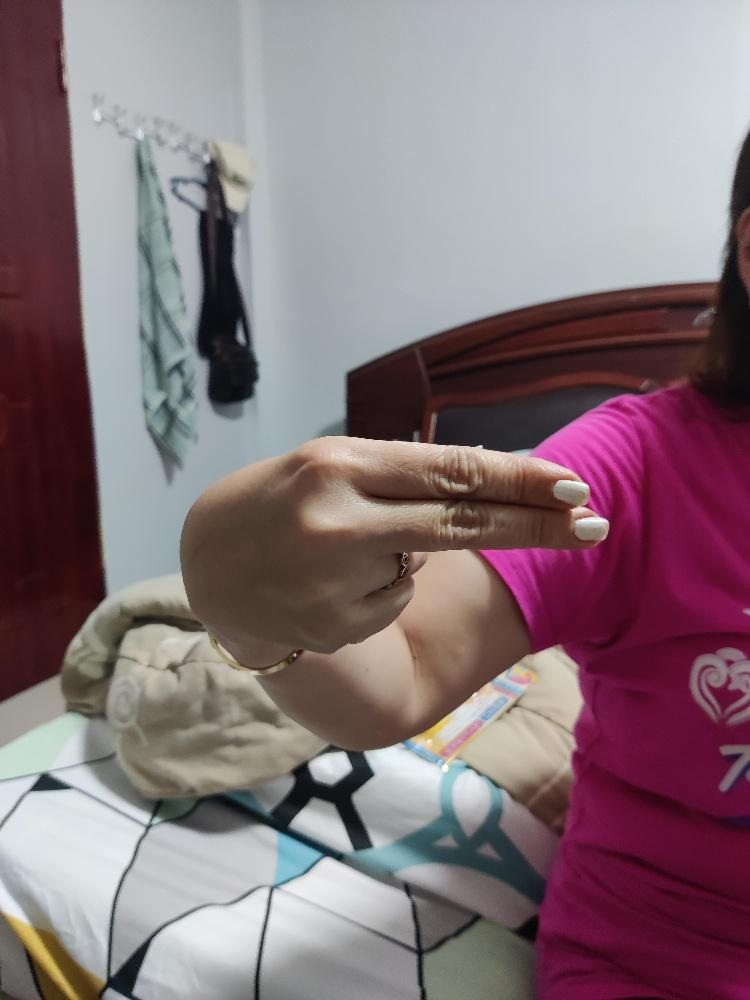h: (176, 433, 611, 655)
